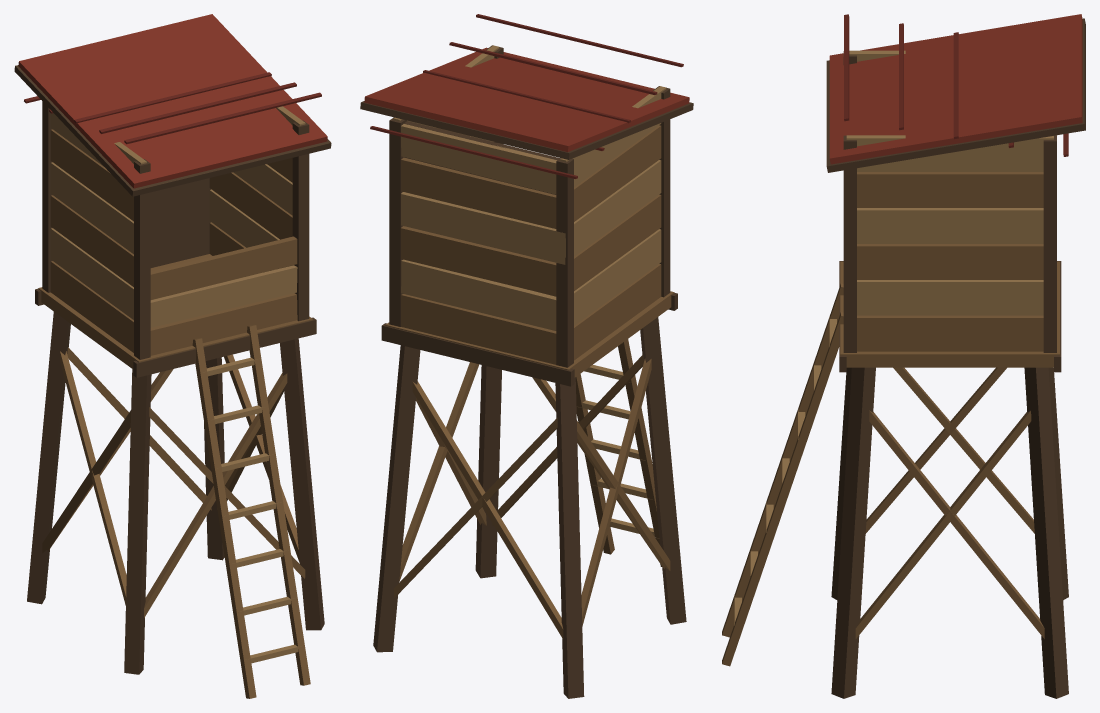
File: deer_stand.glb
3 renders of one model, left to right at view 1: azimuth 30°, elevation 25°; view 2: azimuth 150°, elevation 25°; view 3: azimuth 270°, elevation 25°, orthographic. The views are drawn at different scales.
Parts seen in each view (by area): view 1: deer_stand; view 2: deer_stand; view 3: deer_stand.
Part boxes in pixels (x1,y1,x2,y2): deer_stand: (14,14,331,698); deer_stand: (360,14,693,698); deer_stand: (722,14,1085,698).
Size of the model in its own units: 2.07 by 5.29 by 2.98.
